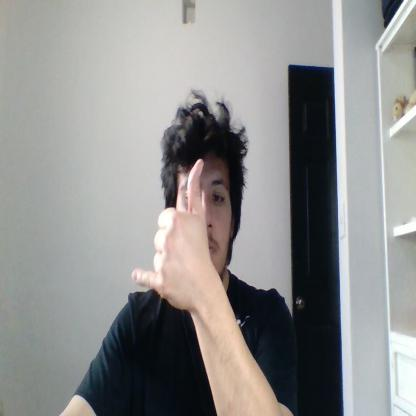Y: (132, 158, 209, 309)
